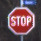stopsign: (7, 6, 36, 35)
